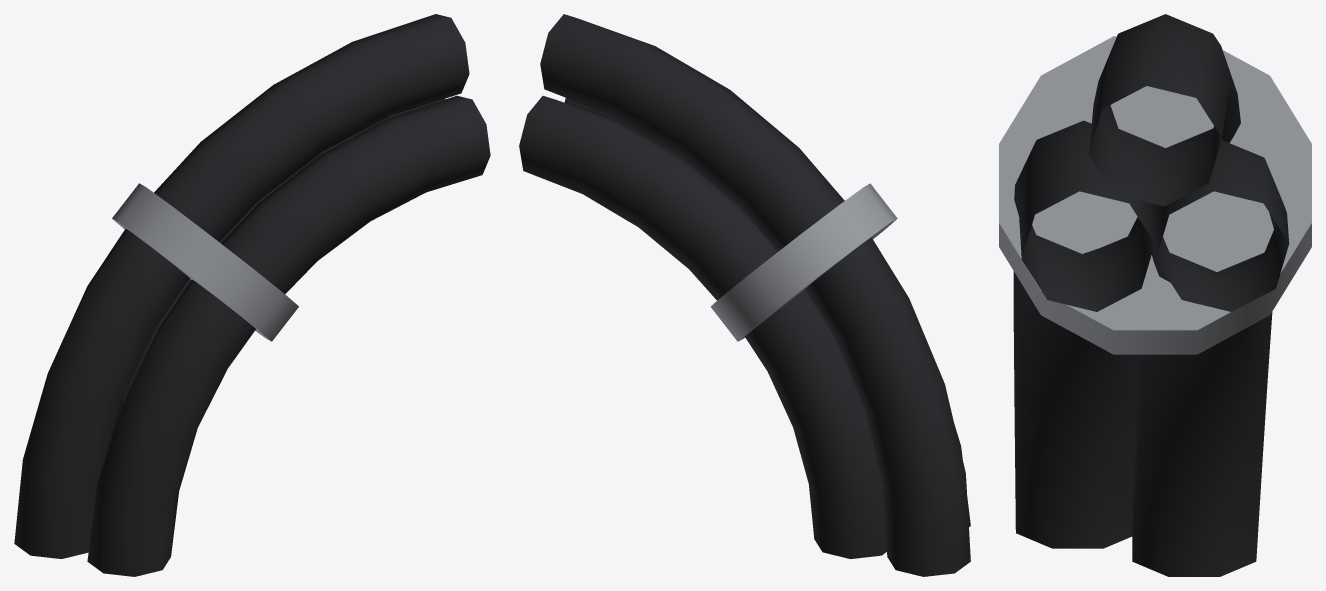
The model's file is bend_down_east.obj.
3 renders of one model, left to right at view 1: azimuth 30°, elevation 25°; view 2: azimuth 150°, elevation 25°; view 3: azimuth 270°, elevation 25°, orthographic. The views are drawn at different scales.
Visible parts, largest first — view 1: bend_down_east; view 2: bend_down_east; view 3: bend_down_east.
Part boxes in pixels (<box>): bend_down_east: <box>14,14,490,576</box>; bend_down_east: <box>519,14,970,576</box>; bend_down_east: <box>999,14,1311,576</box>.
Bounding box in the file's own units: 0.6022 × 0.614 × 0.2475.
